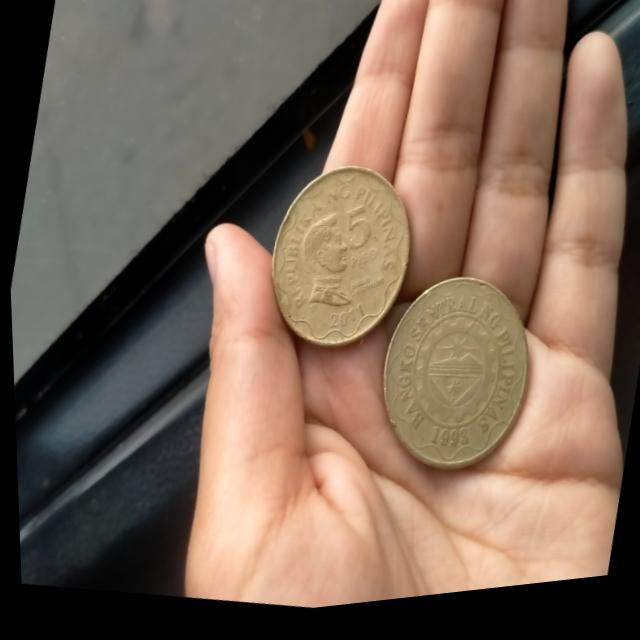5_Old_Back: (356, 272, 546, 503)
5_Old_Front: (319, 200, 394, 295)
